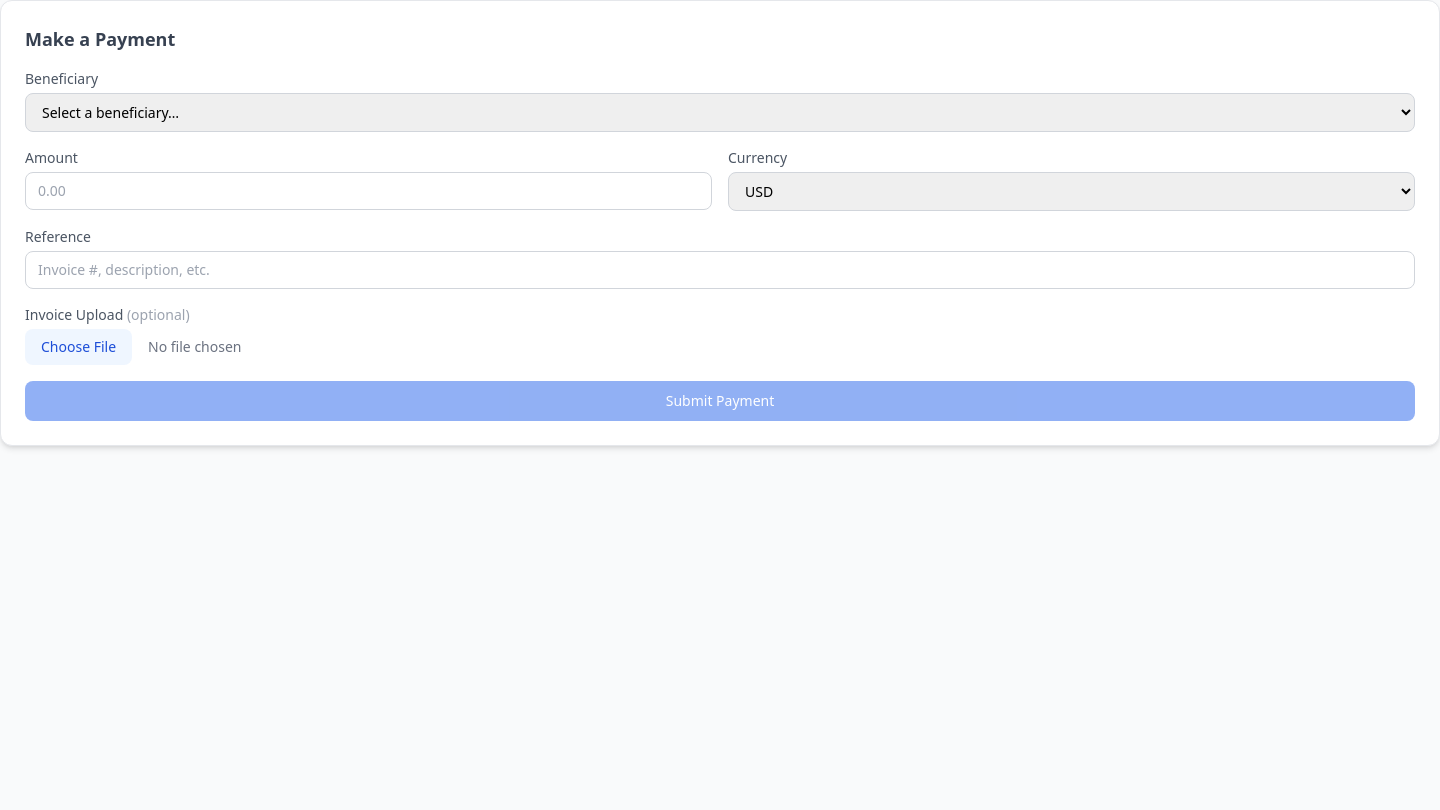
Test: PaymentForm › submits payment and shows confirmation
Select "Alice Johnson – Chase (•••4321)" in the dropdown labelled "Beneficiary" at x=720, y=112, box [25, 93, 1415, 132]
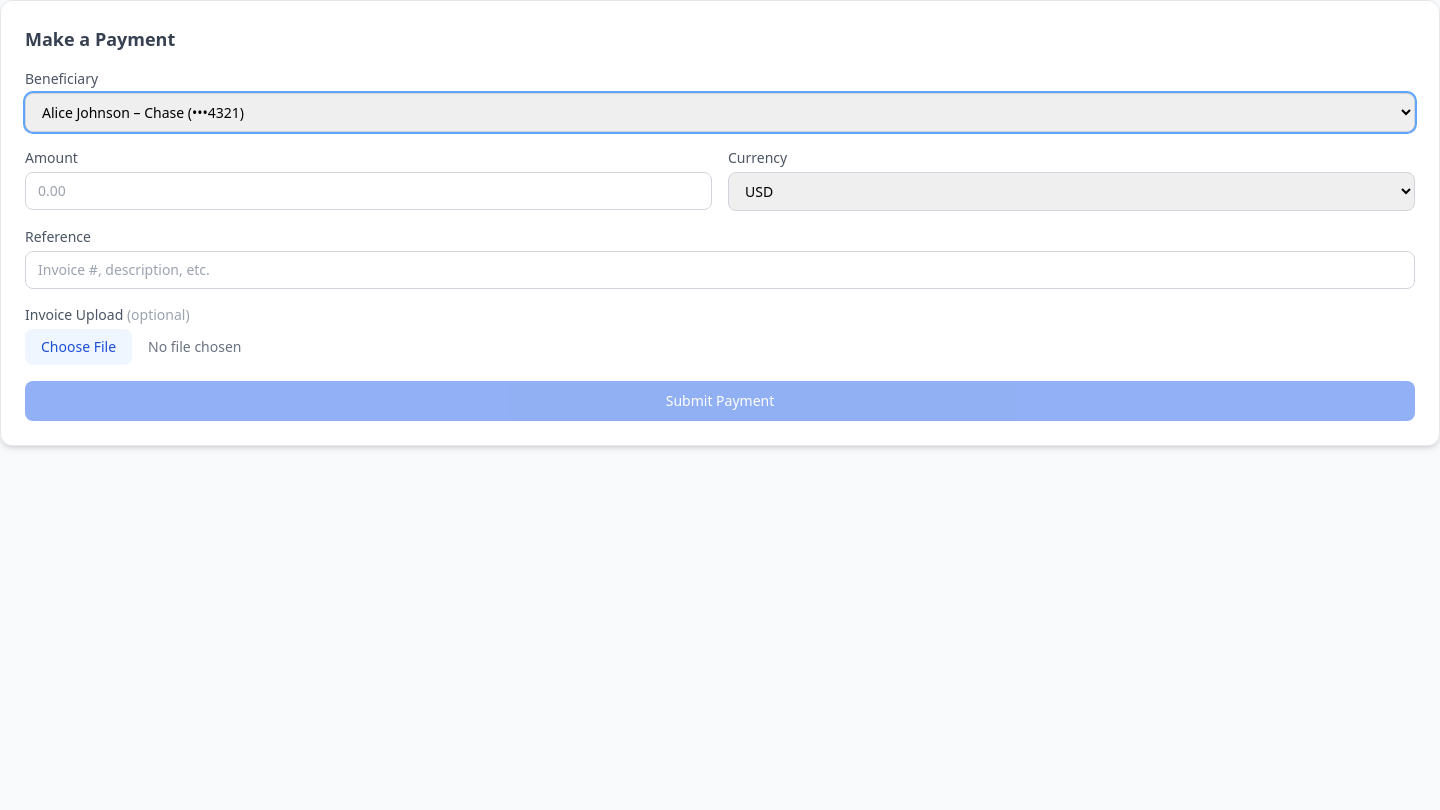
Type "100" into the number field labelled "Amount" at x=368, y=191, box [25, 172, 712, 210]
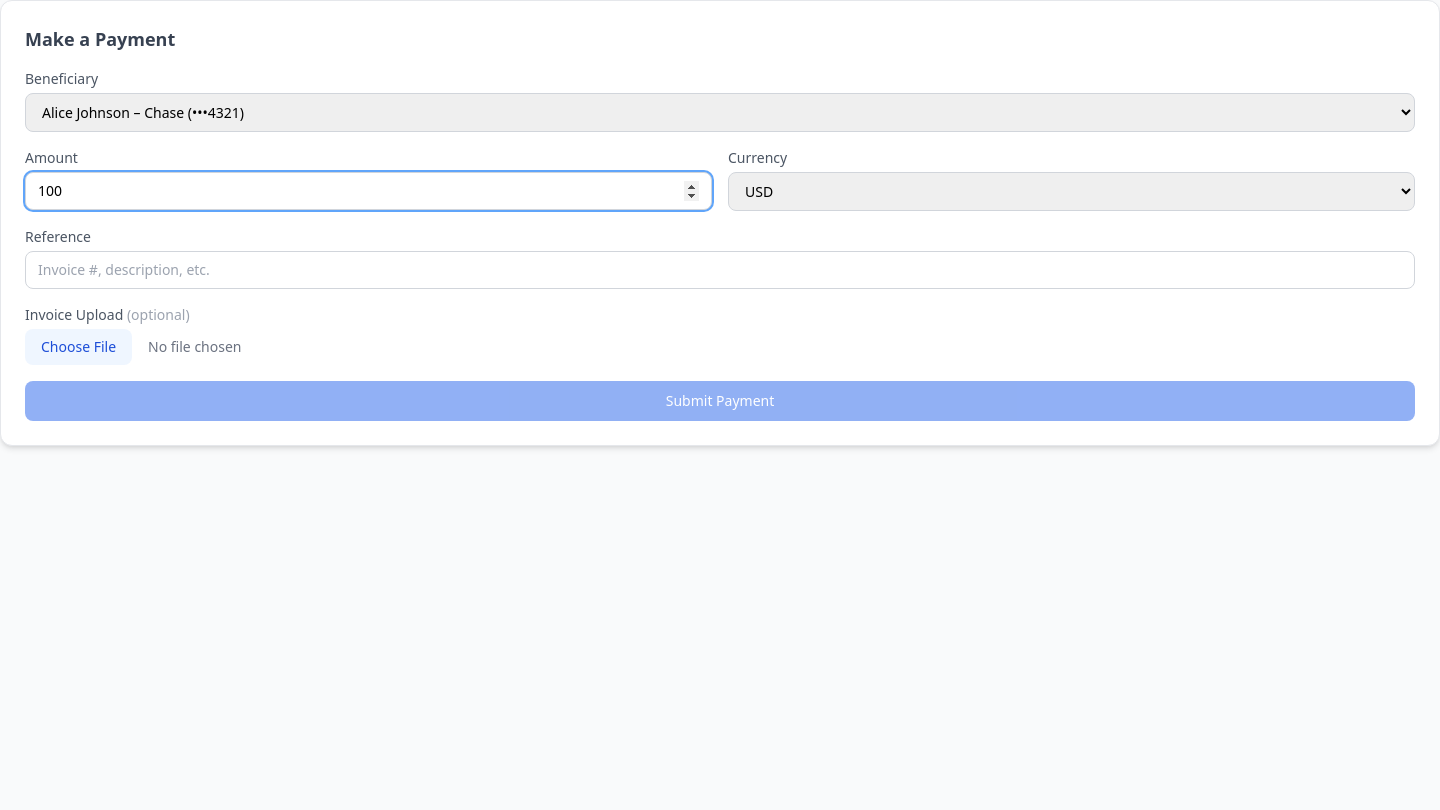
Type "INV-001" into the field labelled "Reference" at x=720, y=270, box [25, 251, 1415, 289]
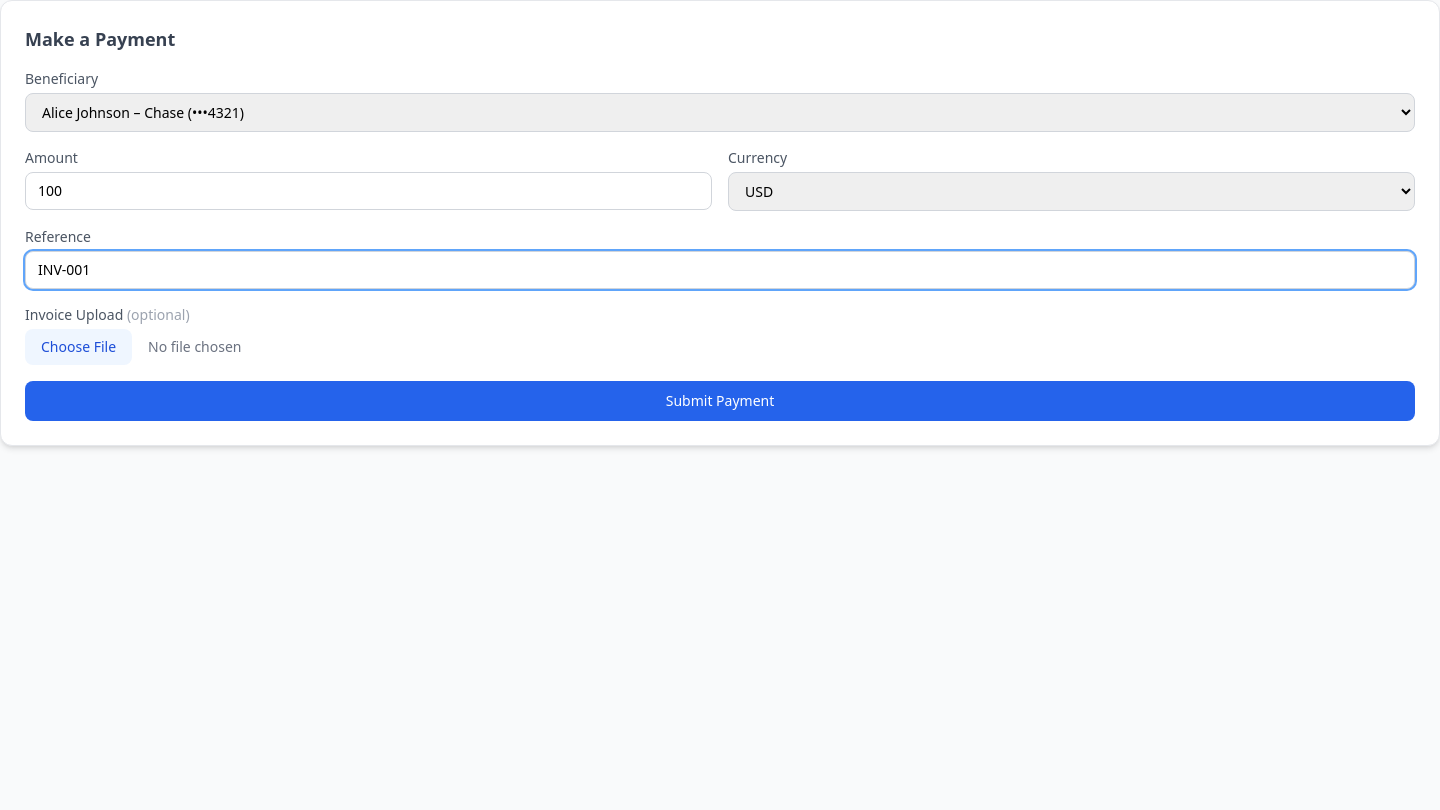
Click the button "Submit Payment" at x=720, y=401, box [25, 381, 1415, 421]
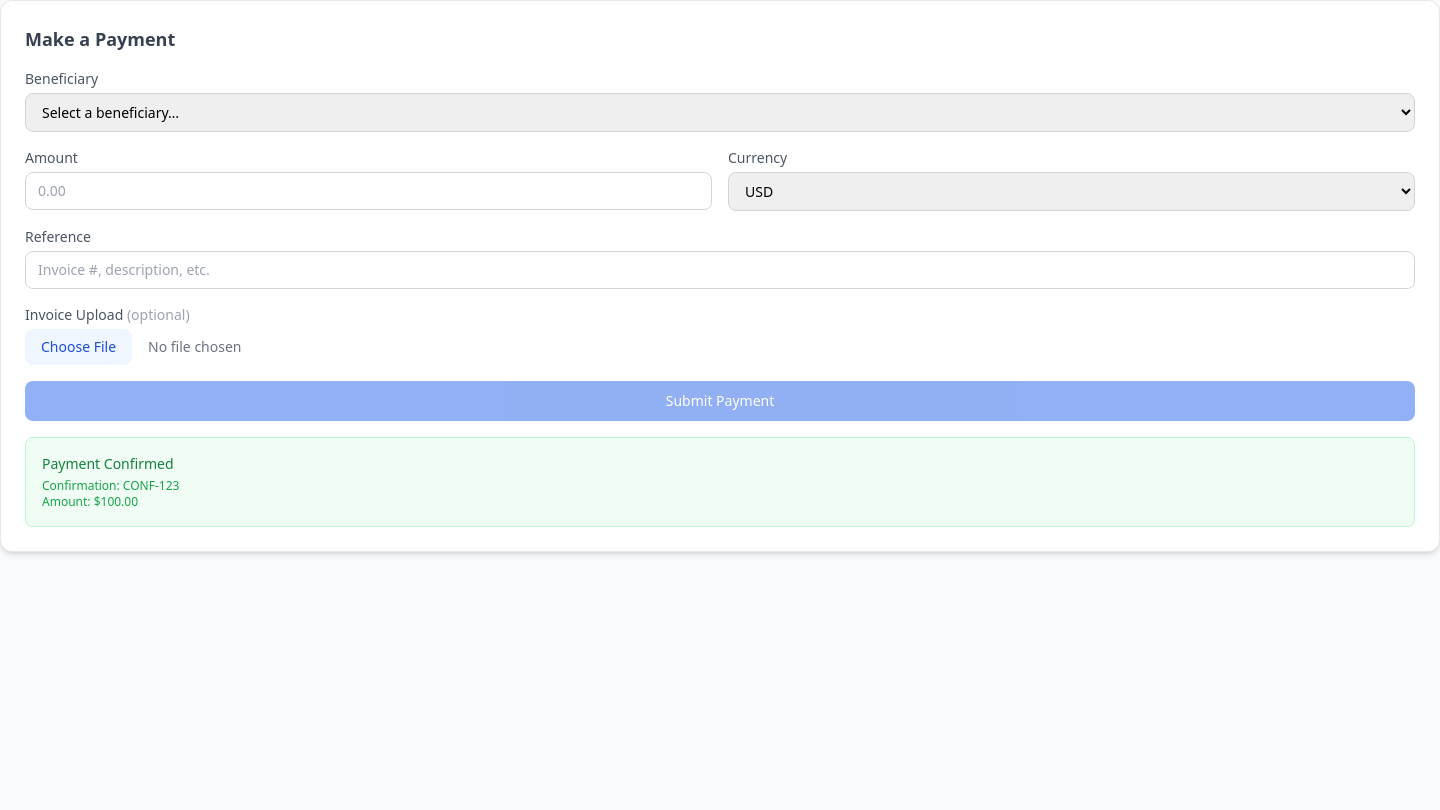
Check: the message shows "Payment Confirmed", box [42, 454, 174, 473]
Check: the text "Confirmation: CONF-123" is shown, box [42, 477, 179, 494]
